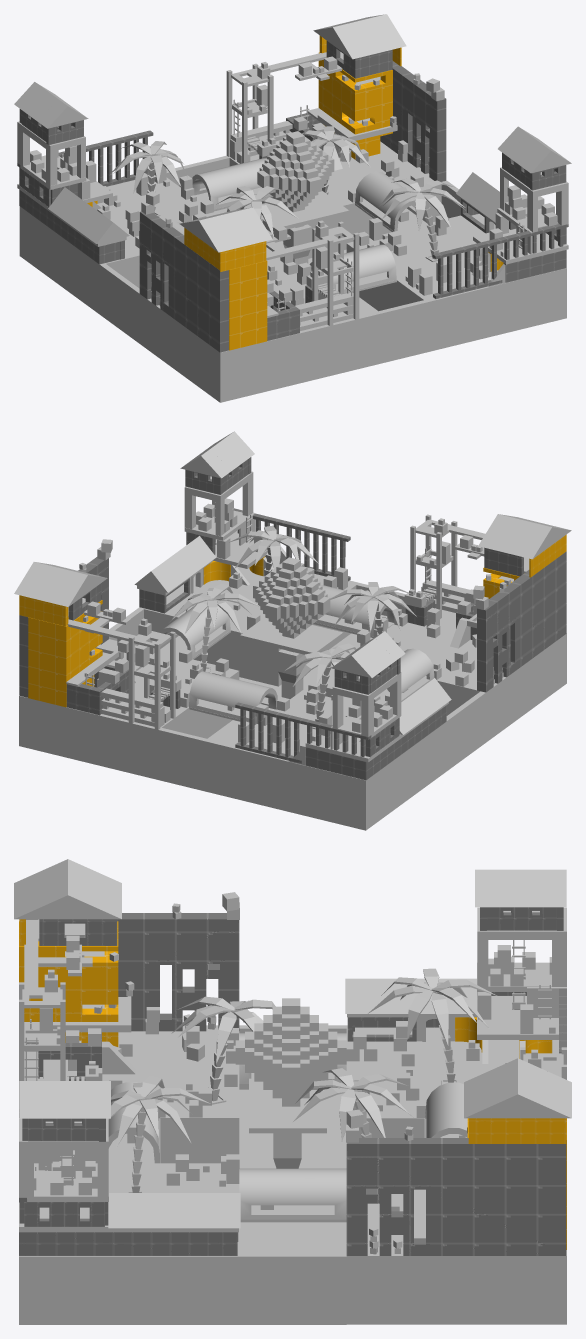
File: SampleLevel_Instances.FBX
3 views of the same model, one above another, from view 1: azimuth 30°, elevation 25°; view 2: azimuth 150°, elevation 25°; view 3: azimuth 270°, elevation 25° (orthographic). The views are drawn at different scales.
Visible parts, largest first — view 1: Block; view 2: Block; view 3: Block.
Part boxes in pixels (x1,y1,x2,y2): Block: (14, 14, 571, 402); Block: (14, 431, 571, 830); Block: (14, 859, 571, 1324).
Bounding box in the file's own units: 105 × 47.73 × 103.
